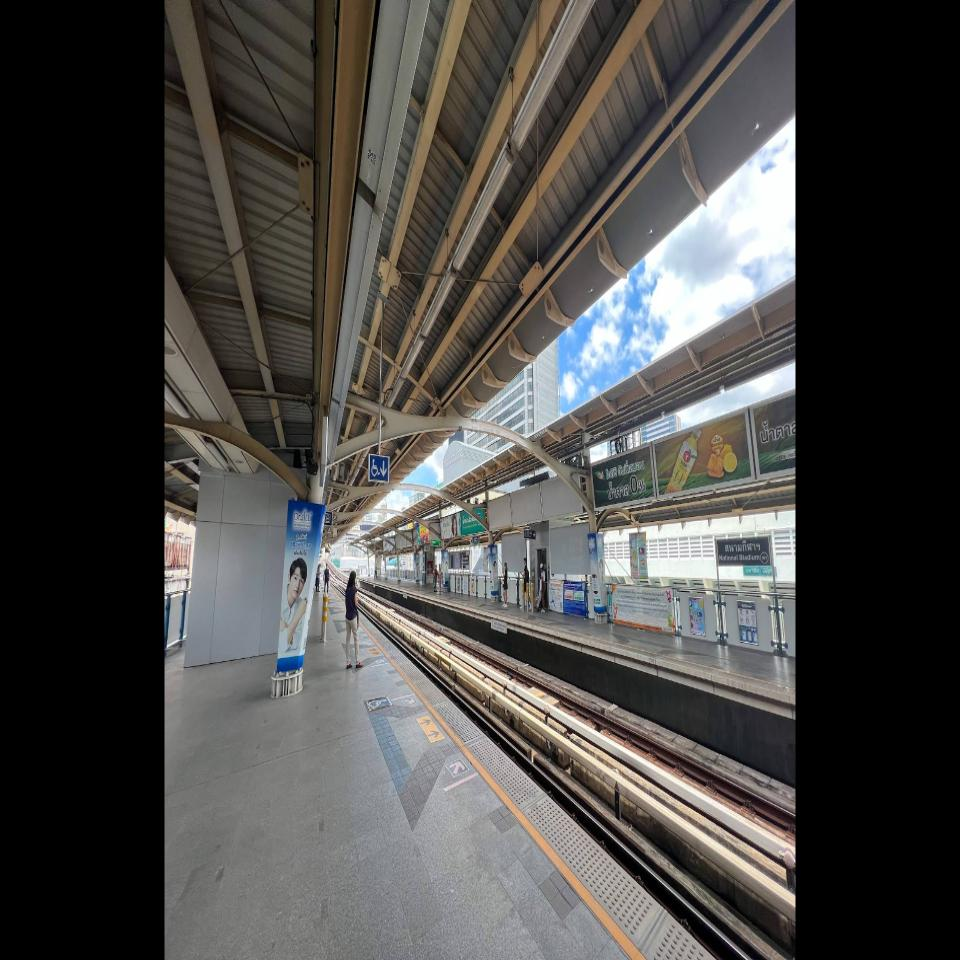National Stadium: (716, 535, 772, 567)
